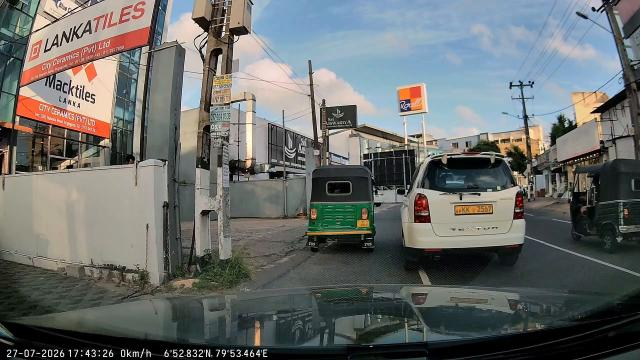illegal overtaking: (309, 143, 386, 257)
number plate: (351, 219, 374, 231)
